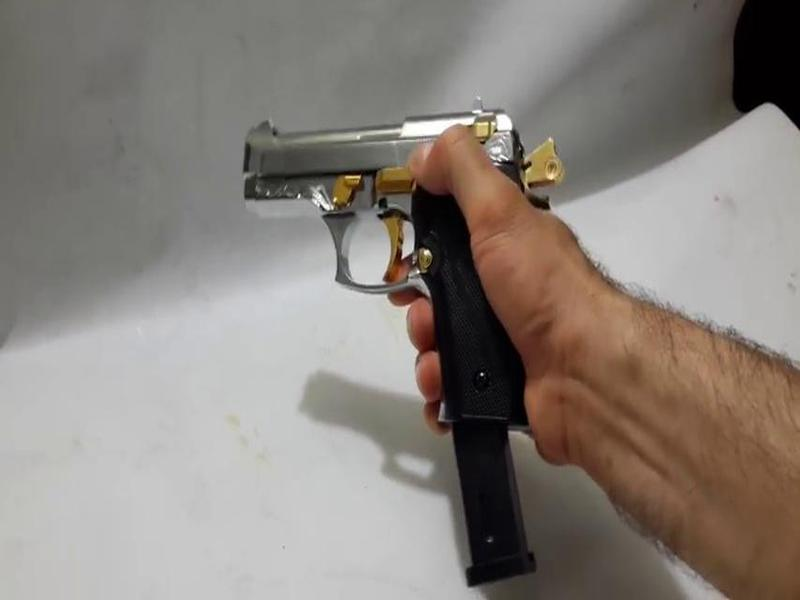Pistola: (225, 103, 574, 426)
